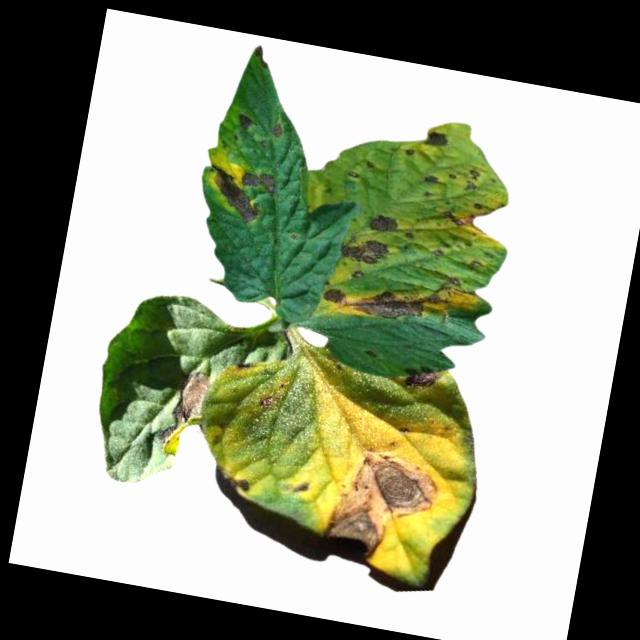Early_blight: (317, 440, 449, 573), (348, 270, 450, 330), (160, 367, 213, 461), (206, 164, 264, 222), (337, 233, 391, 270), (402, 362, 444, 393), (213, 462, 254, 493), (240, 166, 279, 195), (367, 209, 405, 237), (441, 206, 478, 230), (421, 125, 452, 148), (322, 283, 347, 305), (291, 476, 315, 496), (259, 390, 279, 411), (236, 112, 256, 129), (467, 165, 485, 181), (270, 121, 285, 139)
